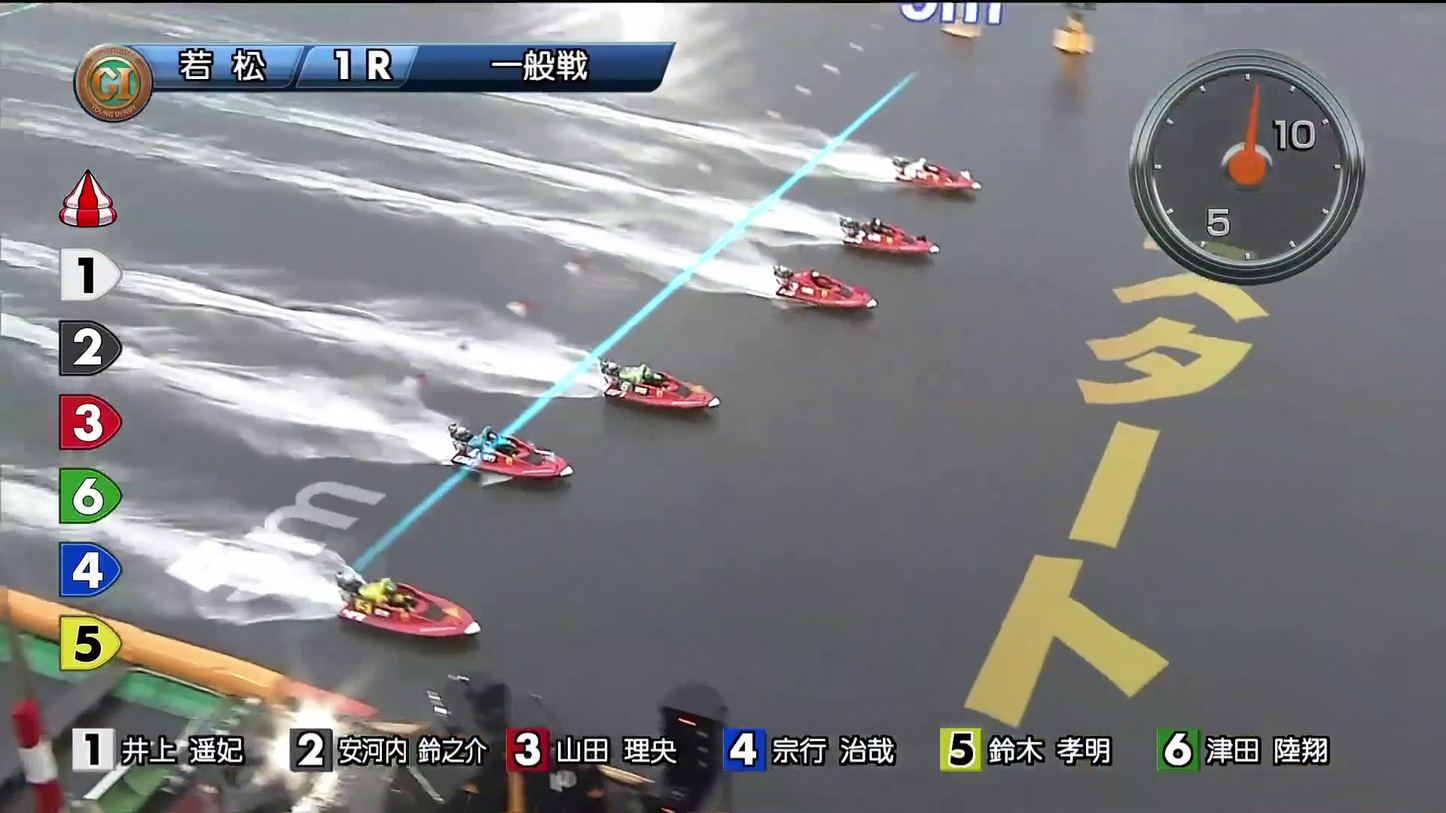１号艇: (851, 173, 929, 219)
２号艇: (859, 232, 921, 270)
３号艇: (797, 278, 852, 319)
４号艇: (636, 372, 701, 415)
５号艇: (500, 455, 569, 493)
６号艇: (427, 610, 492, 657)
